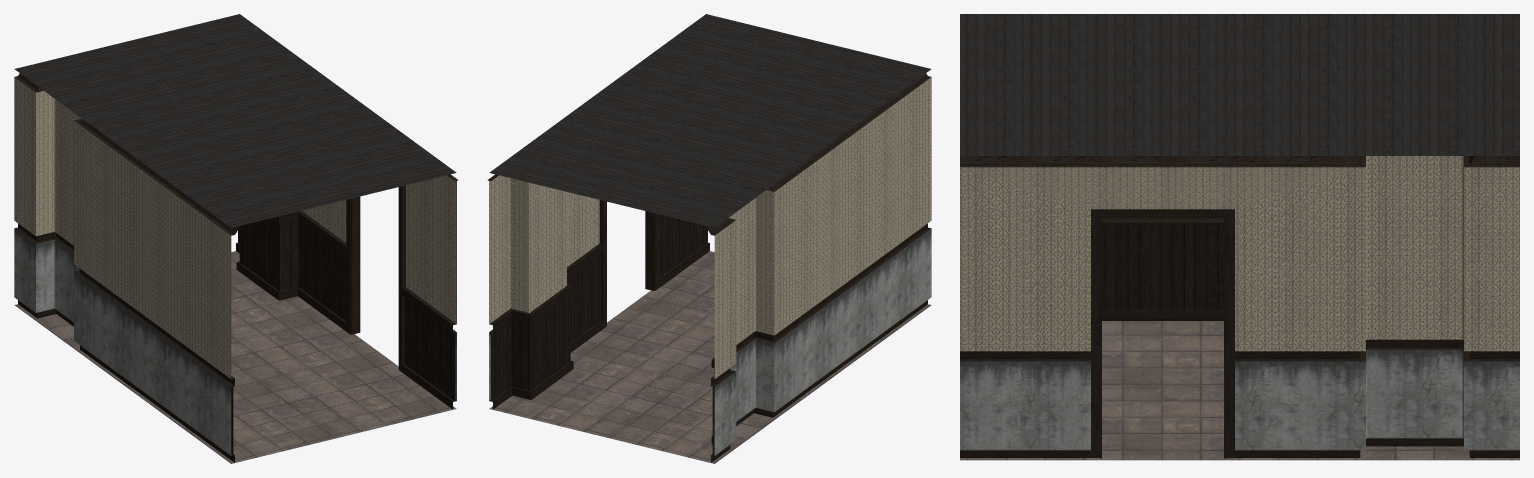
File: Prefab_Corridor_1.fbx
3 renders of one model, left to right at view 1: azimuth 30°, elevation 25°; view 2: azimuth 150°, elevation 25°; view 3: azimuth 270°, elevation 25°, orthographic. The views are drawn at different scales.
Parts seen in each view (by area): view 1: Cube; view 2: Cube; view 3: Cube.
Part boxes in pixels (<box>): Cube: <box>14,14,458,463</box>; Cube: <box>487,14,931,463</box>; Cube: <box>960,14,1519,460</box>.
Bounding box in the file's own units: 12.3 × 12 × 20.
